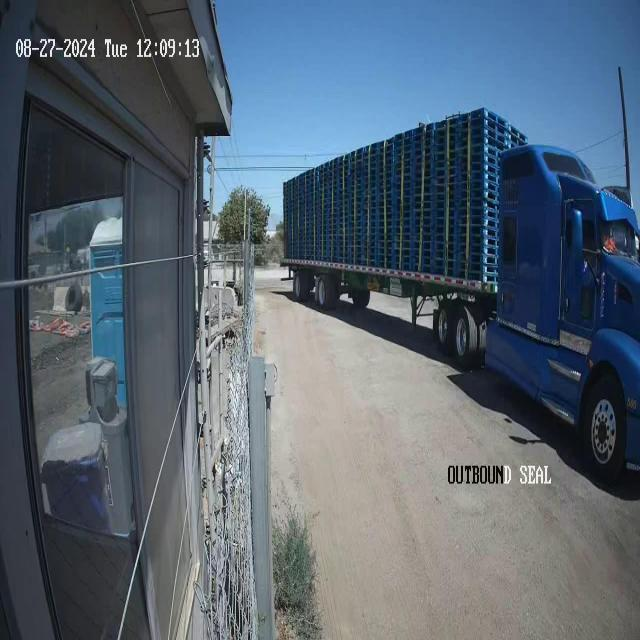TRUCK_IN: (280, 78, 640, 485)
